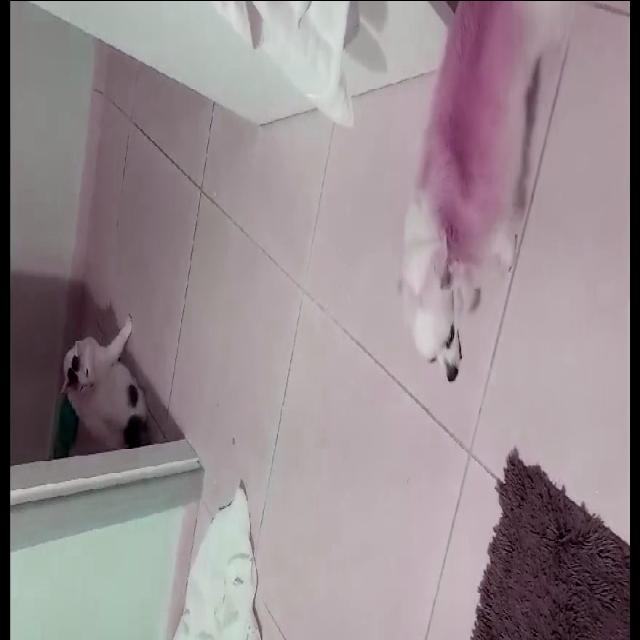Simba: (47, 316, 140, 460)
Theo: (368, 1, 564, 386)
